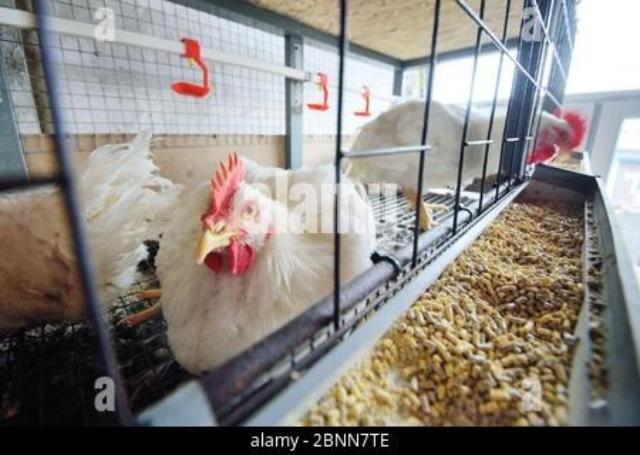Chicken: (154, 149, 384, 371), (2, 133, 174, 320), (350, 99, 585, 234)
